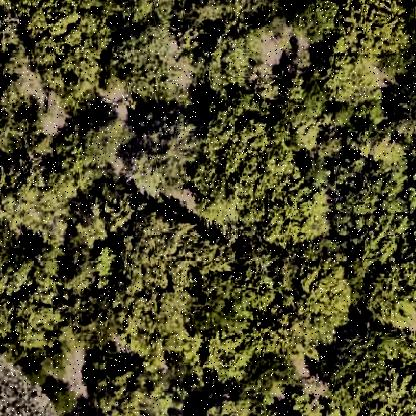tree-top: (197, 94, 300, 204), (108, 256, 204, 357), (24, 5, 112, 105), (322, 329, 416, 416), (1, 249, 73, 349), (124, 120, 203, 203), (337, 159, 410, 239), (278, 261, 348, 342), (1, 169, 89, 233), (57, 177, 134, 250), (107, 26, 183, 99), (87, 352, 173, 416), (352, 246, 416, 332), (261, 177, 336, 249), (190, 26, 258, 92), (1, 97, 63, 158), (199, 267, 248, 337), (241, 350, 303, 404), (68, 111, 138, 158), (179, 1, 285, 29), (283, 6, 341, 44), (52, 378, 83, 414)
